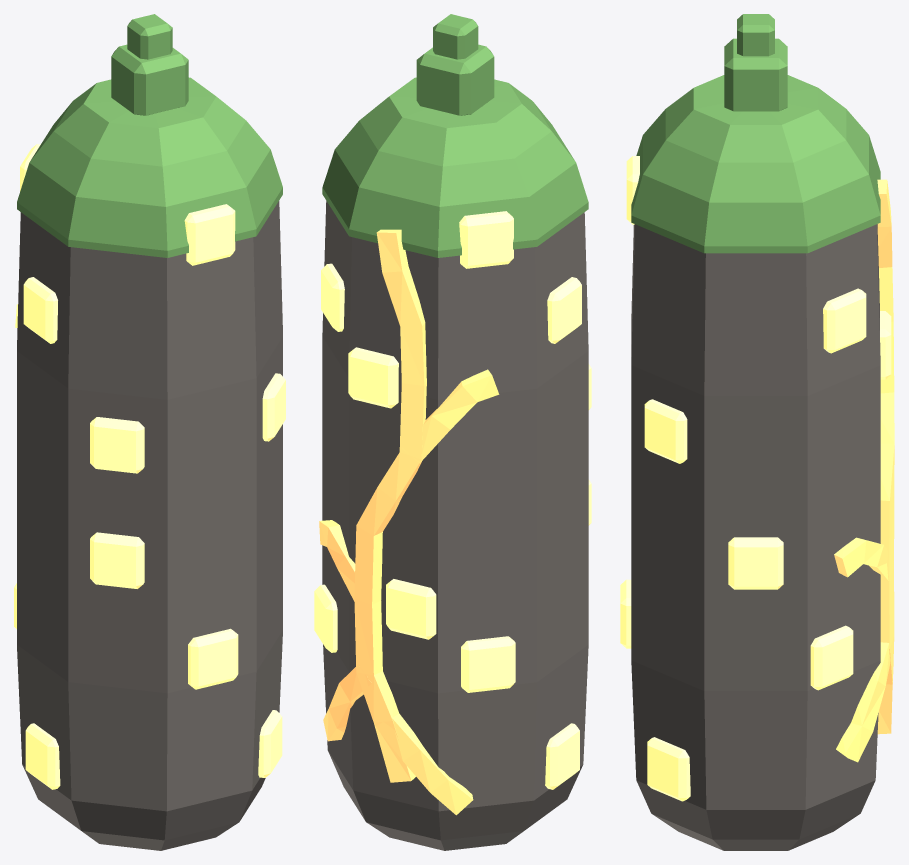
File: VolcanoCharredCucumber.fbx
3 views of the same model, side by side, from view 1: azimuth 30°, elevation 25°; view 2: azimuth 150°, elevation 25°; view 3: azimuth 270°, elevation 25° (orthographic).
Visible parts, largest first — view 1: VolcanoCharredCucumber.Body, VolcanoCharredCucumber.Stem, VolcanoCharredCucumber.Studs; view 2: VolcanoCharredCucumber.Body, VolcanoCharredCucumber.Stem, VolcanoCharredCucumber.Cracks, VolcanoCharredCucumber.Studs; view 3: VolcanoCharredCucumber.Body, VolcanoCharredCucumber.Stem, VolcanoCharredCucumber.Studs, VolcanoCharredCucumber.Cracks.
Part boxes in pixels (x1,y1,x2,y2): VolcanoCharredCucumber.Body: (17, 201, 282, 850); VolcanoCharredCucumber.Stem: (17, 14, 282, 257); VolcanoCharredCucumber.Studs: (14, 144, 285, 789); VolcanoCharredCucumber.Body: (322, 201, 588, 850); VolcanoCharredCucumber.Stem: (322, 14, 588, 257); VolcanoCharredCucumber.Cracks: (319, 229, 499, 815); VolcanoCharredCucumber.Studs: (314, 211, 591, 789); VolcanoCharredCucumber.Body: (631, 224, 880, 850); VolcanoCharredCucumber.Stem: (631, 14, 880, 253); VolcanoCharredCucumber.Studs: (620, 156, 891, 801); VolcanoCharredCucumber.Cracks: (834, 179, 894, 762).
Bounding box in the file's own units: 1.36 × 4.44 × 1.38.
